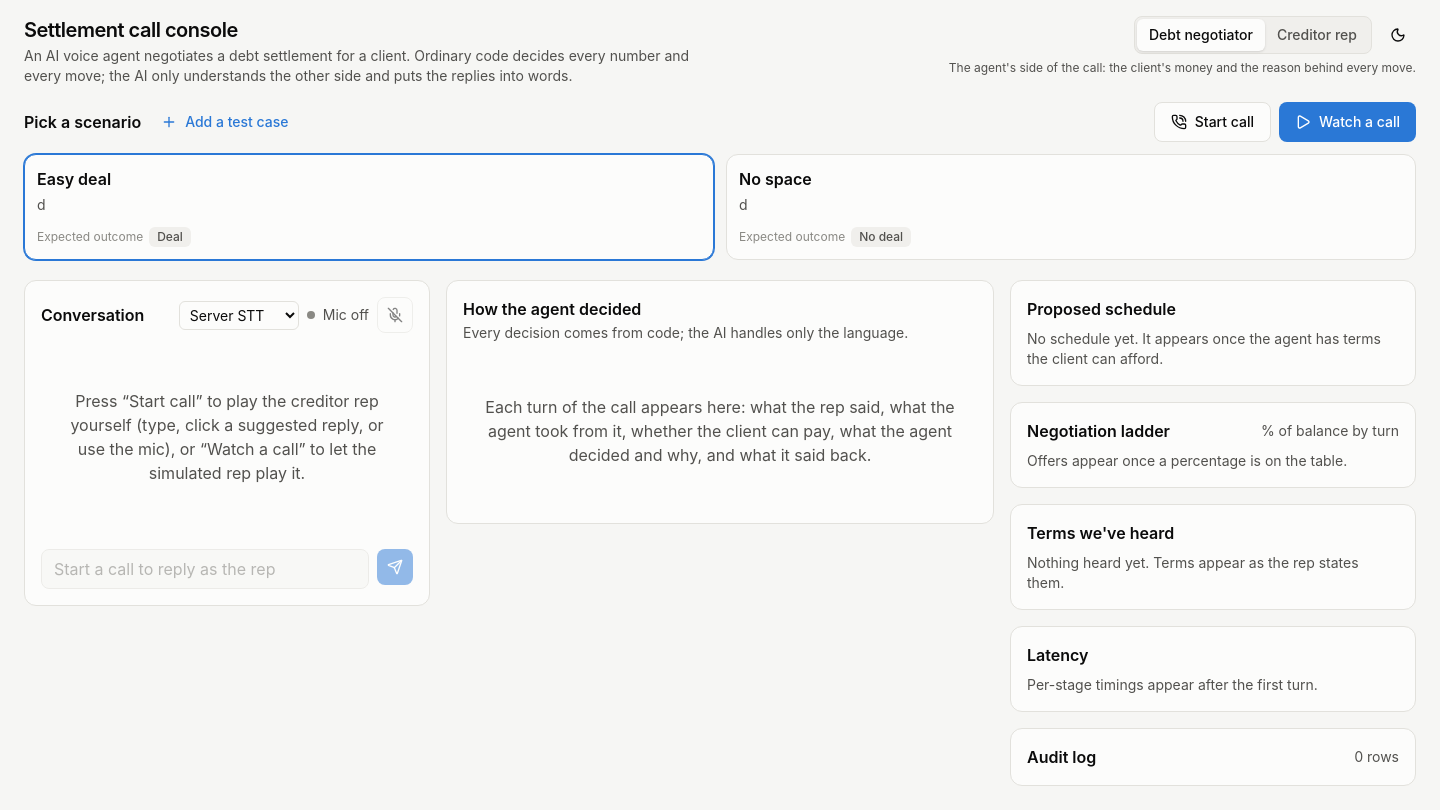
Test: LiveApp Creditor rep view › shows the rep's own account instead of the operator brief
Expected: the button "No space d Expected outcome No deal" is shown, [726, 154, 1416, 260]
Expected: the text "Your account" is not shown
What coordinates should you click on to do the following:
click the radio button labelled "Creditor rep"
I would click on:
 (1317, 35)
Its box is [1265, 19, 1369, 51].
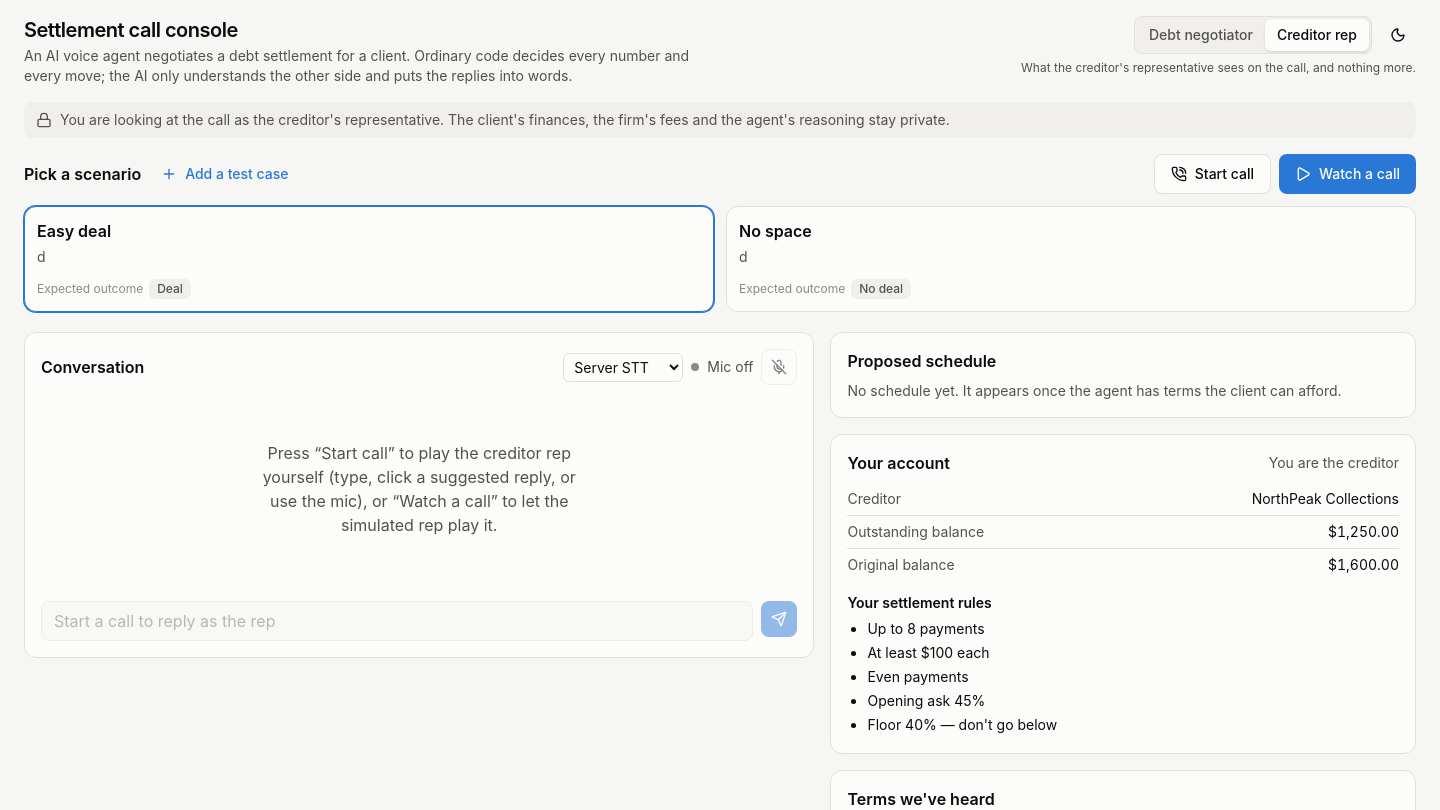
Result: the list item "Up to 8 payments" is shown at [868, 620, 985, 637]
Result: the heading "Your account" is shown at [848, 451, 950, 475]
Result: the list item "Floor 40% — don't go below" is shown at [868, 716, 1057, 733]
